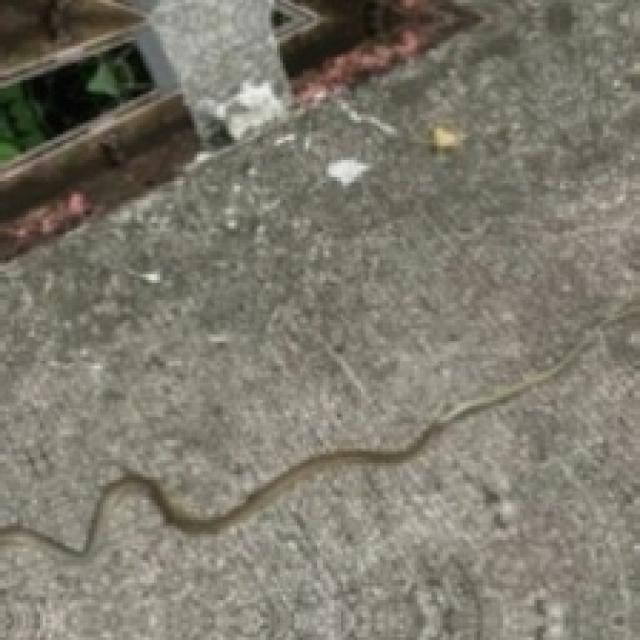philippine bronzeback treesnake: (0, 291, 637, 569)
